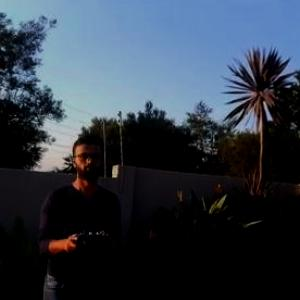follow: (32, 129, 128, 299)
